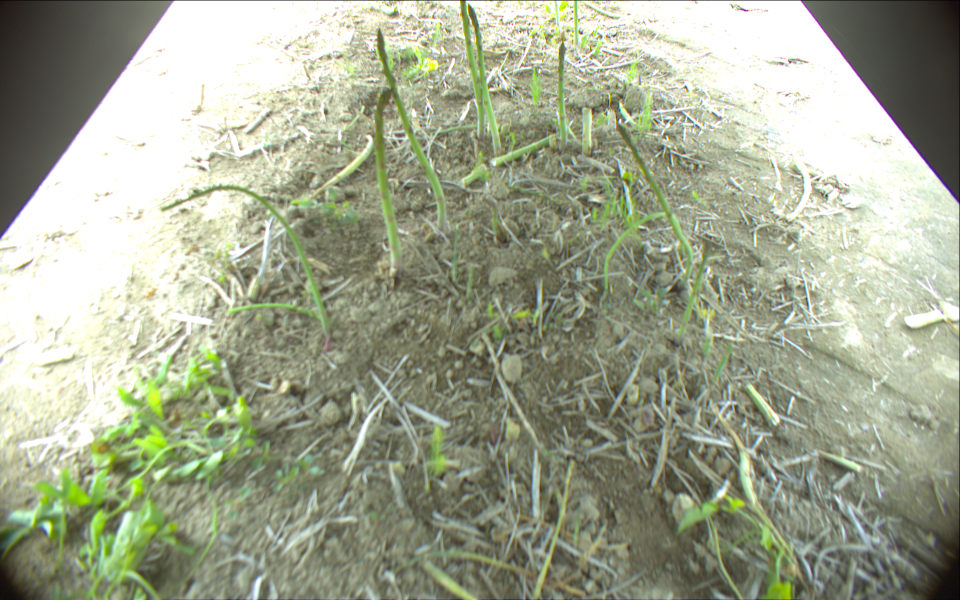aspa: (157, 182, 332, 333), (374, 26, 447, 229), (617, 124, 695, 293), (392, 551, 589, 595), (371, 84, 405, 276), (531, 461, 575, 600), (294, 133, 377, 204), (468, 4, 502, 155), (607, 209, 671, 289), (674, 235, 714, 337), (458, 1, 486, 139), (491, 127, 562, 171), (420, 561, 480, 600), (226, 300, 323, 322), (555, 42, 570, 146), (580, 106, 593, 155), (572, 1, 581, 46), (554, 1, 562, 30)
